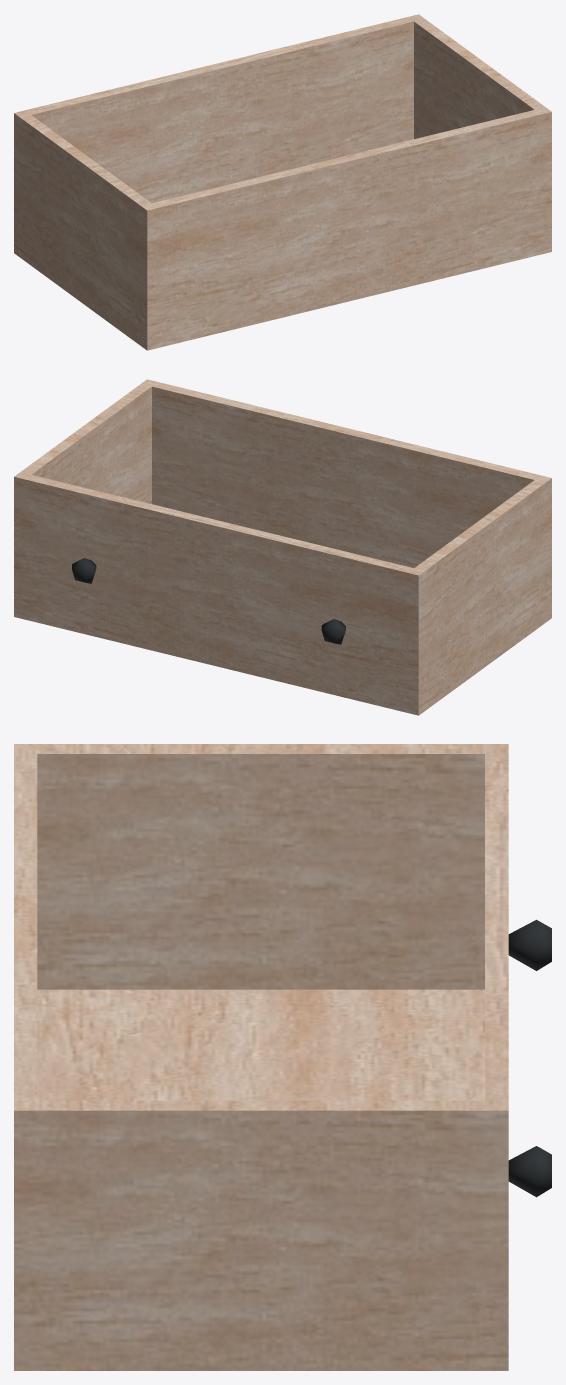
File: Washbasin_drawer_02.glb
The picture shows the model from 3 angles, top to bottom: view 1: azimuth 30°, elevation 25°; view 2: azimuth 150°, elevation 25°; view 3: azimuth 270°, elevation 25°; orthographic projection. The views are drawn at different scales.
Parts seen in each view (by area): view 1: Washbasin_drawer_02; view 2: Washbasin_drawer_02; view 3: Washbasin_drawer_02.
Part boxes in pixels (x1,y1,x2,y2): Washbasin_drawer_02: (14, 14, 551, 350); Washbasin_drawer_02: (14, 379, 551, 715); Washbasin_drawer_02: (14, 744, 551, 1370).
Bounding box in the file's own units: 0.6432 × 0.2128 × 0.3988.
2 materials, 2 textured.
